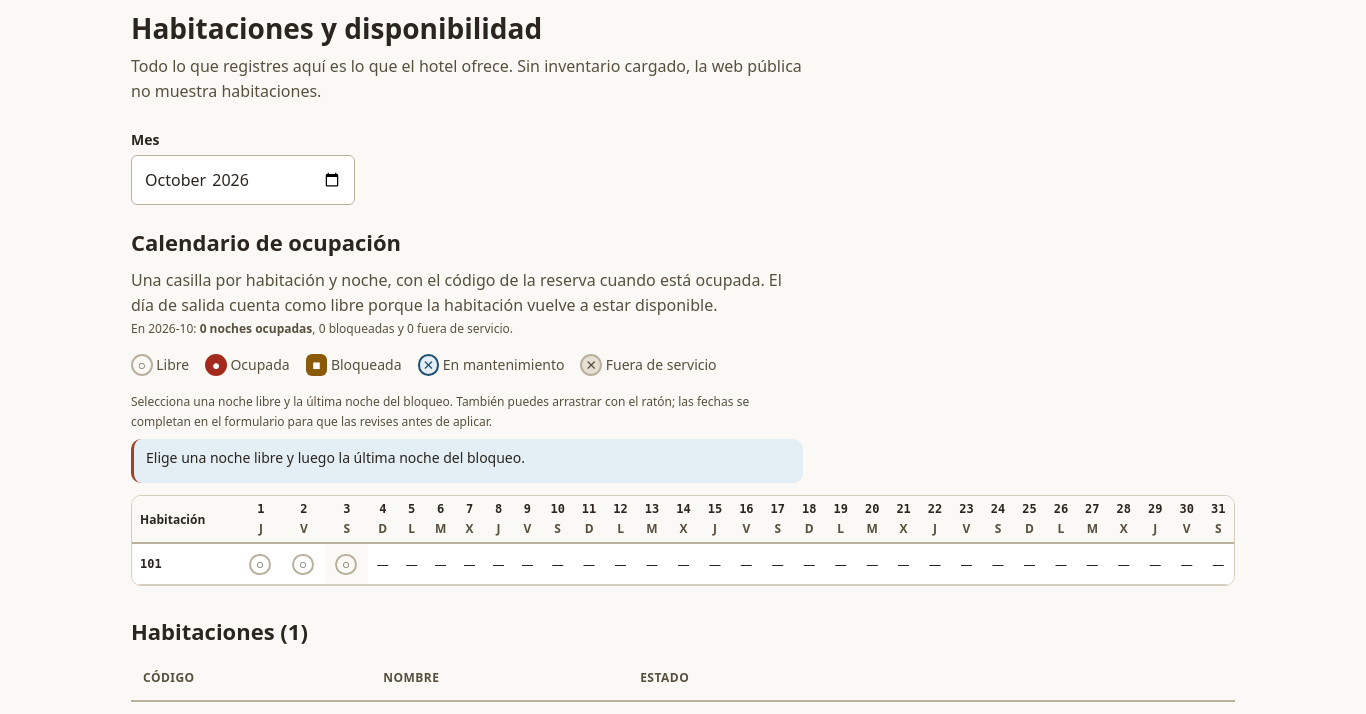
it: prioridad del alta inicial del inventario › un arrastre de ratón rellena el mismo intervalo semiabierto
Press the mouse on the button named "Habitación 101, noche 2026-10-01, libre" at (260, 564), box [239, 544, 281, 584]
Hover over the button named "Habitación 101, noche 2026-10-03, libre" at (346, 564), box [325, 544, 367, 584]
(page scrolled)
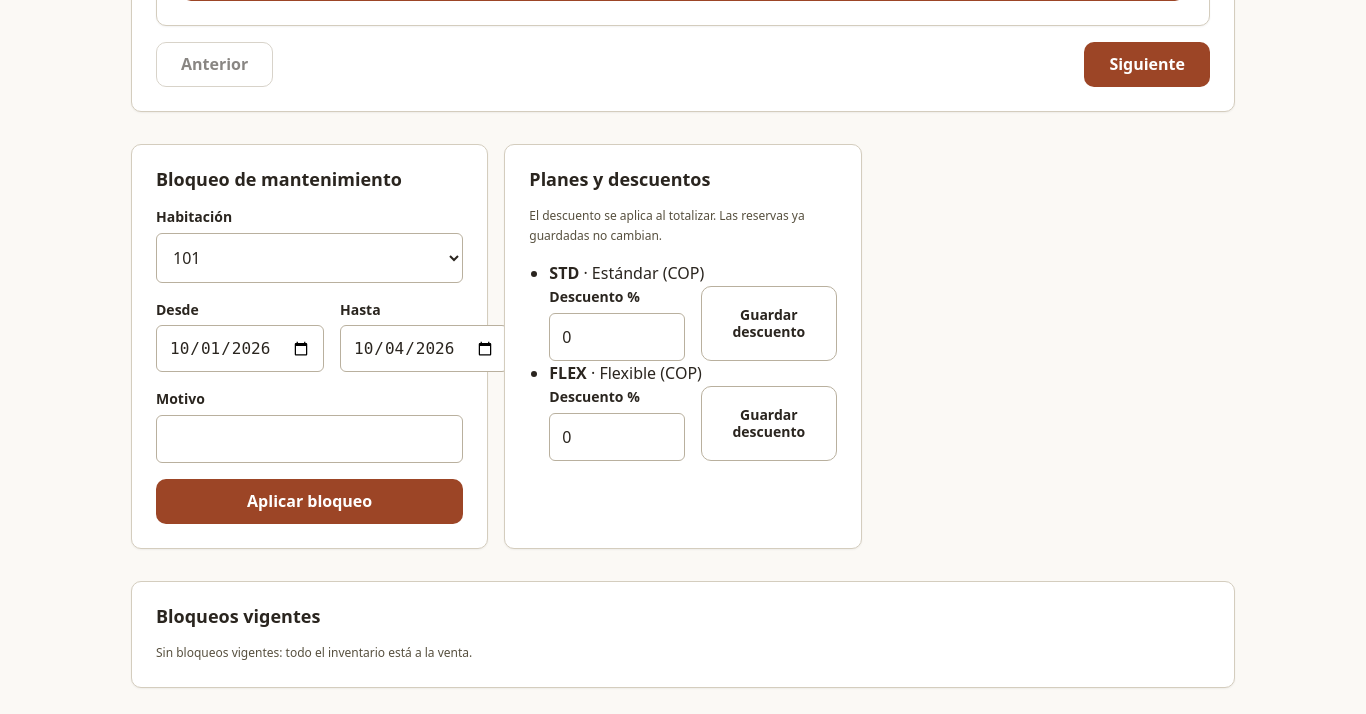
Expected: the date field labelled "Desde" holds "2026-10-01", [156, 325, 324, 372]
Expected: the date field labelled "Hasta" holds "2026-10-04", [340, 325, 508, 372]
